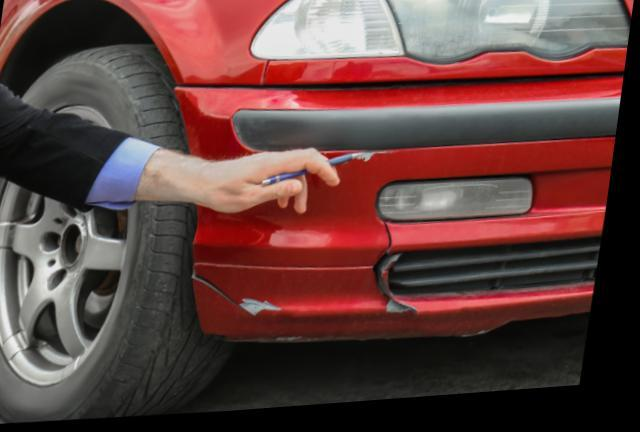crack: (379, 228, 426, 319), (200, 270, 260, 318)
